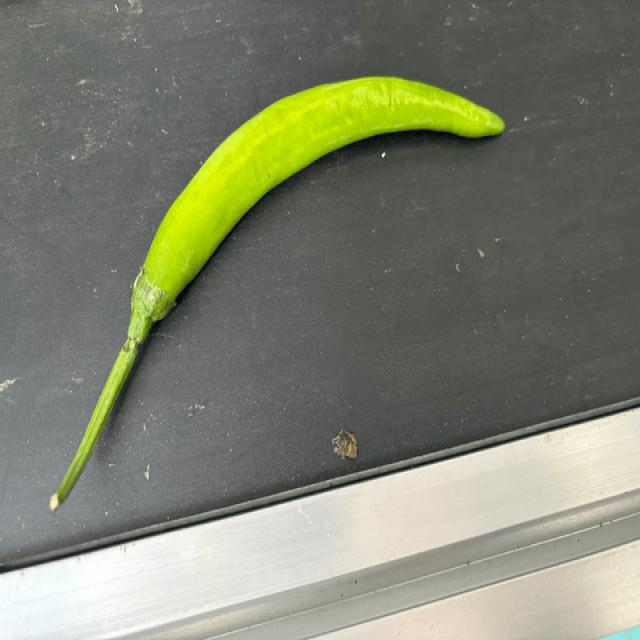chili: (129, 75, 506, 324)
